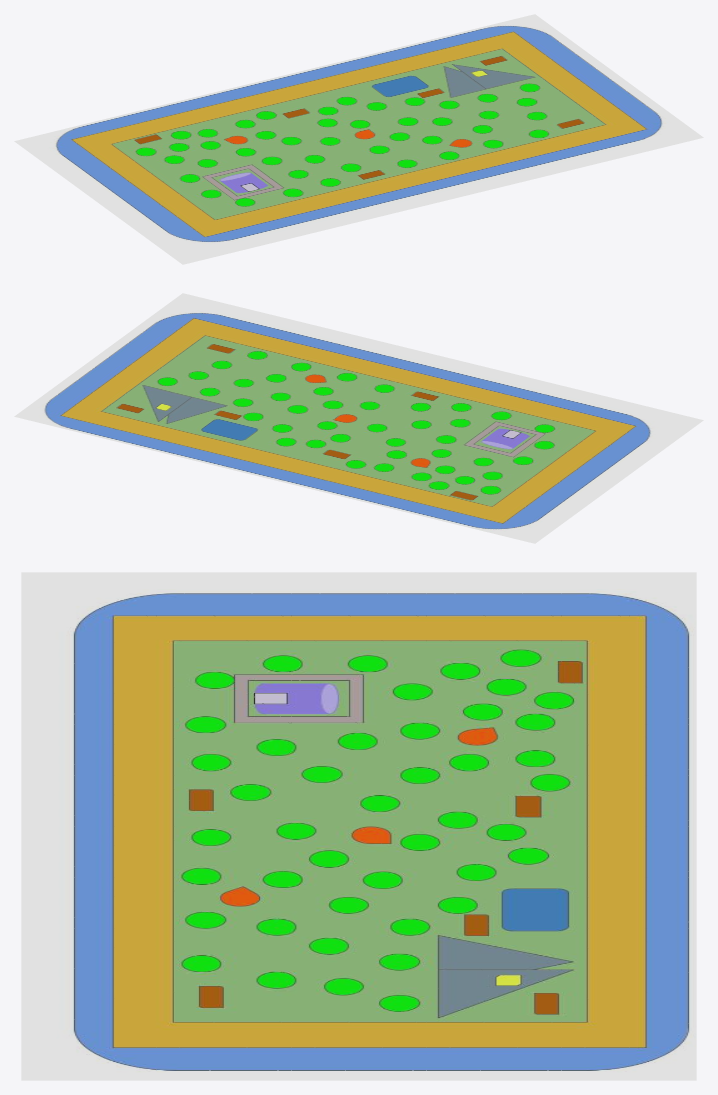
Rendered from floor.fbx.
3 renders of one model, top to bottom at view 1: azimuth 30°, elevation 25°; view 2: azimuth 150°, elevation 25°; view 3: azimuth 270°, elevation 25°, orthographic. The views are drawn at different scales.
Parts seen in each view (by area): view 1: floor; view 2: floor; view 3: floor.
Part boxes in pixels (x1=…): floor: x1=14, y1=14, x2=703, y2=264; floor: x1=14, y1=293, x2=703, y2=543; floor: x1=21, y1=572, x2=696, y2=1080.
Bounding box in the file's own units: 11946 × 1.49e-13 × 6704.
Materials: 1 (1 with a texture image).
